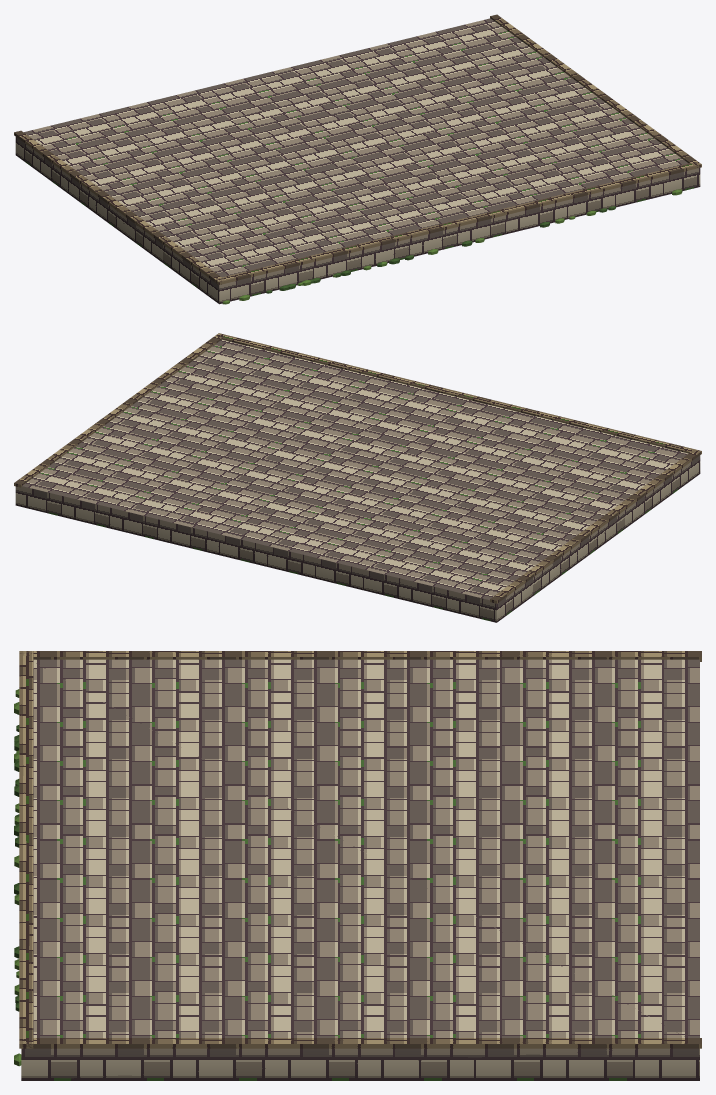
Rendered from scene_wall_s.glb.
The picture shows the model from 3 angles, top to bottom: view 1: azimuth 30°, elevation 25°; view 2: azimuth 150°, elevation 25°; view 3: azimuth 270°, elevation 25°; orthographic projection. The views are drawn at different scales.
Parts seen in each view (by area): view 1: scene_wall_s; view 2: scene_wall_s; view 3: scene_wall_s.
Part boxes in pixels (x1,y1,x2,y2): scene_wall_s: (14,14,701,304); scene_wall_s: (14,333,701,622); scene_wall_s: (14,651,701,1080).
Size of the model in its own units: 24.1 by 1.17 by 17.84.
Materials: 2 (1 with a texture image).
